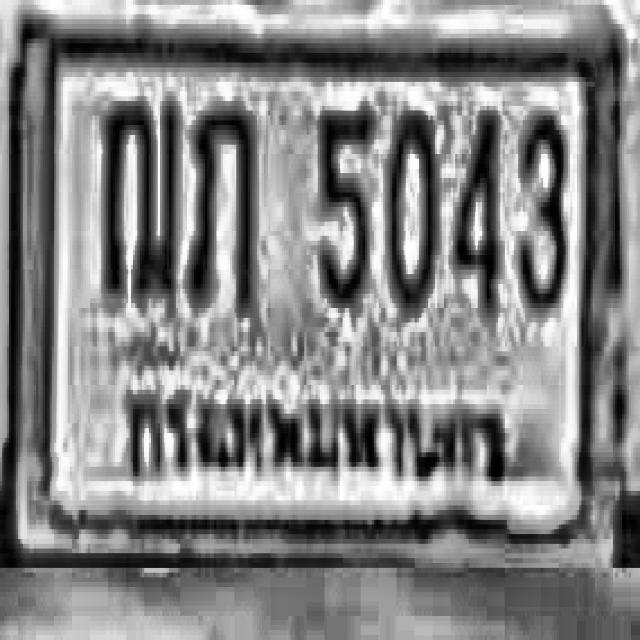license-plate: (18, 19, 622, 564)
